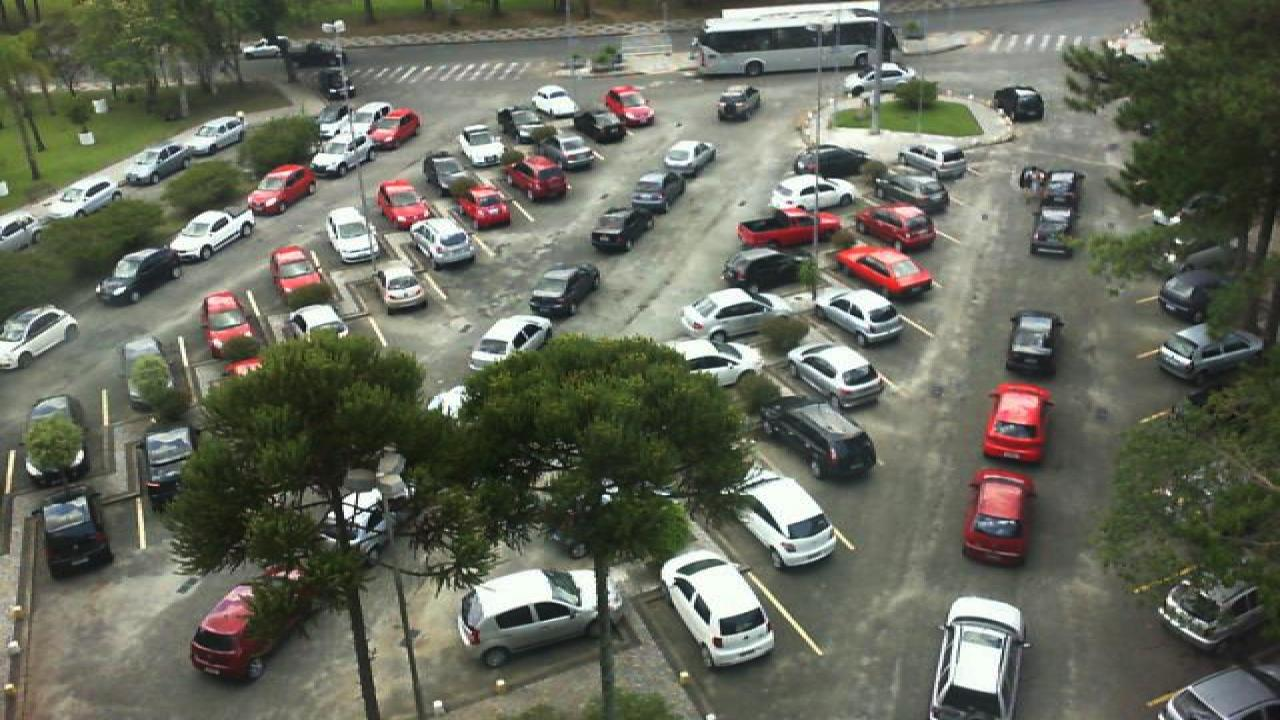Car: (658, 549, 778, 668), (458, 568, 612, 654), (924, 595, 1028, 720), (758, 398, 878, 481), (190, 584, 290, 683), (738, 470, 838, 568), (962, 469, 1036, 567), (1156, 575, 1258, 646), (1154, 664, 1280, 720), (36, 493, 114, 577), (1156, 323, 1264, 381), (788, 342, 884, 405), (980, 382, 1050, 463), (812, 287, 906, 343), (0, 304, 78, 370), (836, 245, 934, 297), (94, 248, 178, 306), (680, 287, 774, 337), (470, 315, 552, 372), (140, 426, 196, 506), (168, 210, 254, 262), (200, 291, 262, 360), (1004, 309, 1064, 376), (674, 341, 758, 388), (528, 264, 600, 318), (1154, 268, 1224, 323), (24, 394, 90, 450), (850, 206, 938, 248), (722, 246, 808, 288), (408, 216, 476, 269), (246, 163, 314, 216), (324, 207, 384, 264), (738, 214, 844, 246), (40, 179, 124, 219), (874, 171, 954, 211), (122, 142, 196, 185), (772, 174, 860, 210), (450, 181, 512, 230), (506, 154, 568, 202), (270, 245, 326, 298), (892, 144, 972, 181), (284, 302, 348, 348), (376, 178, 432, 230), (308, 136, 376, 178), (588, 208, 648, 254), (374, 262, 428, 313), (1028, 207, 1078, 258), (186, 112, 246, 154), (792, 144, 864, 178), (422, 151, 472, 197), (366, 107, 422, 148), (844, 61, 918, 91), (626, 172, 680, 213), (544, 131, 598, 171), (460, 125, 508, 169), (604, 86, 654, 126), (498, 106, 550, 144), (990, 86, 1046, 121), (660, 140, 714, 176), (574, 108, 626, 144), (1042, 169, 1086, 210), (530, 86, 580, 120), (716, 86, 762, 120)
